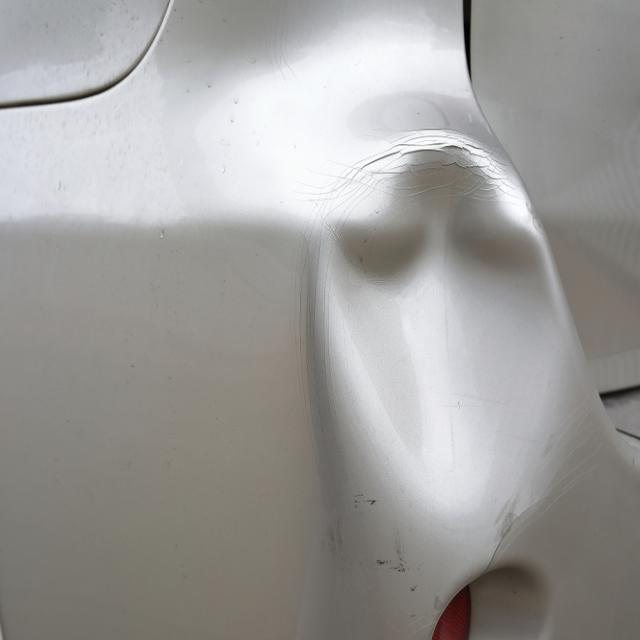dent: (313, 135, 556, 536)
